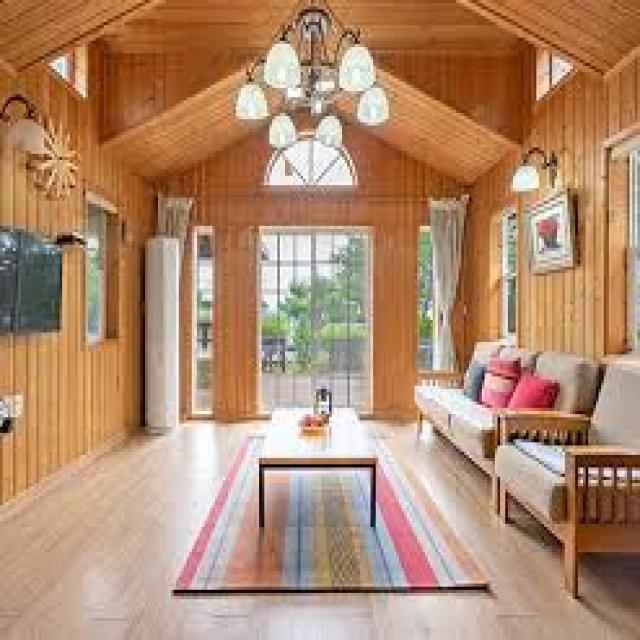Sofa: (413, 337, 638, 593)
Table: (264, 401, 380, 530)
tv: (2, 224, 67, 340)
window: (196, 225, 410, 410)
